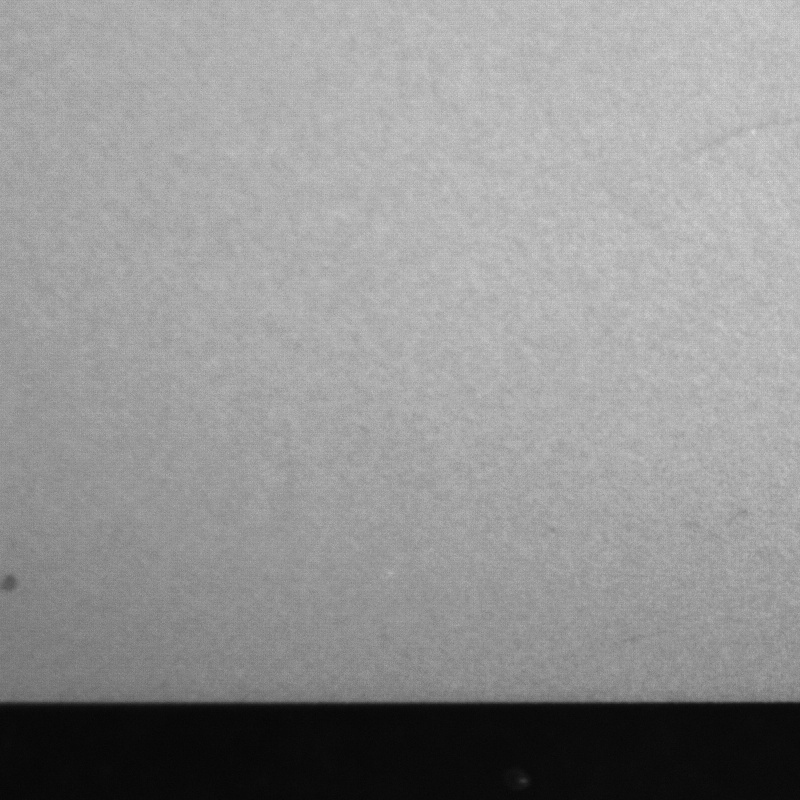defect: (693, 111, 798, 156), (693, 525, 738, 547), (720, 510, 748, 529), (1, 571, 21, 591)
